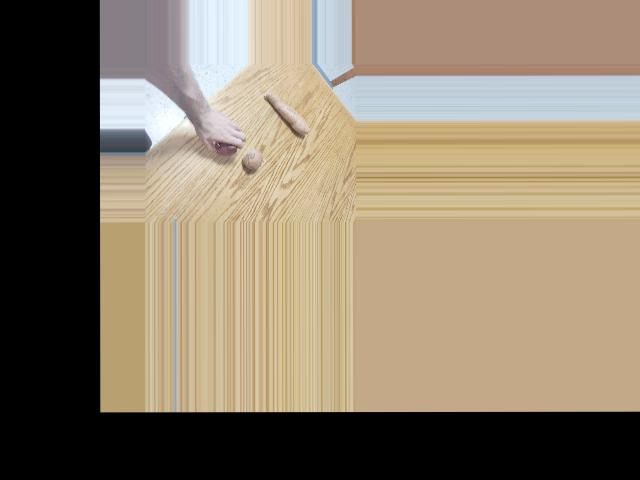onion: (216, 134, 237, 154)
